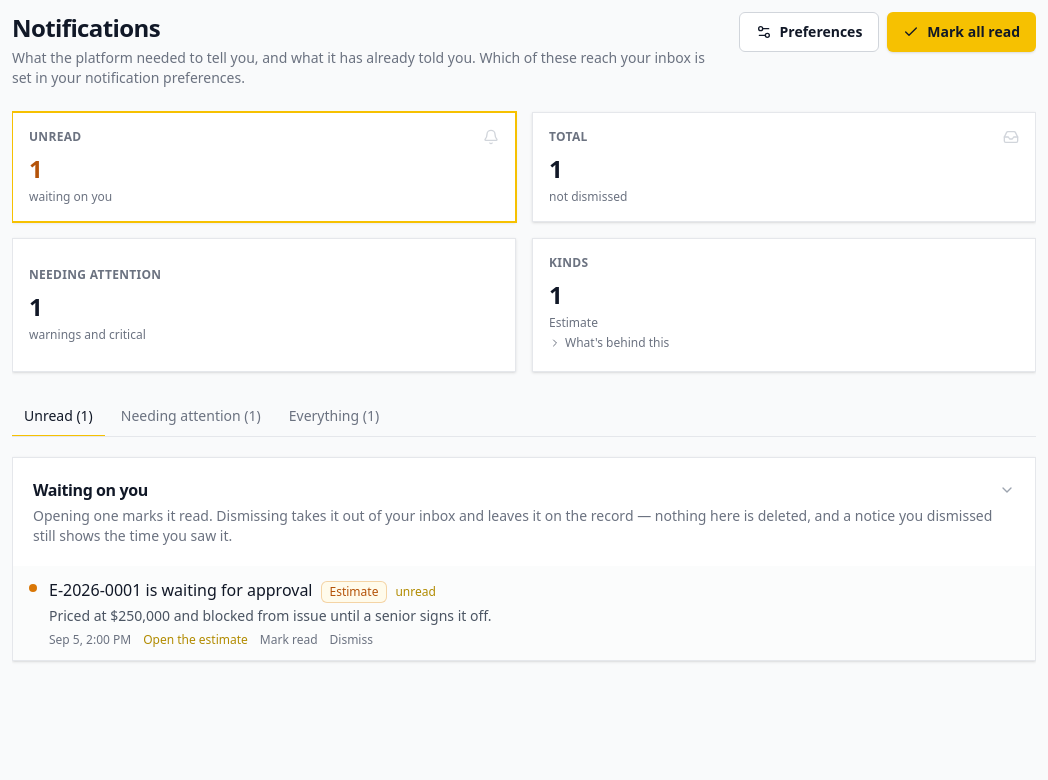
the notifications screen › says a mark failed instead of showing it as read
This screenshot has width=1048, height=780.
Click the button "Mark read": (289, 640) [260,632,318,648]
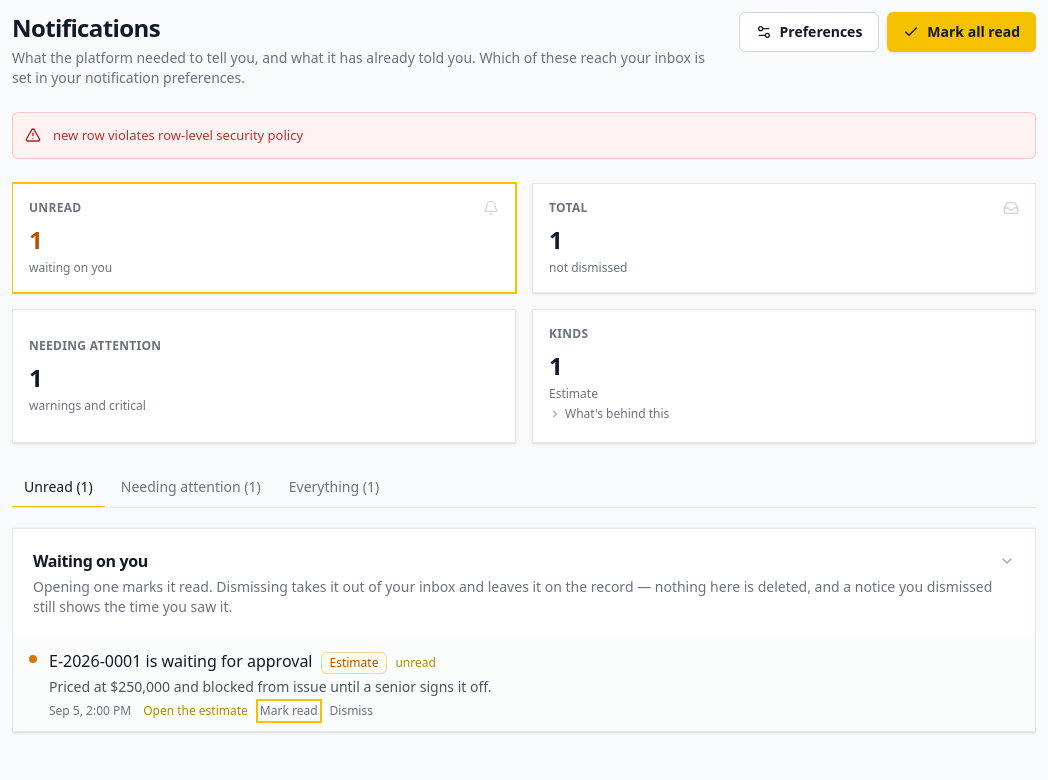
Expected: the text "new row violates row-level security policy" is shown, [53,125,303,146]
